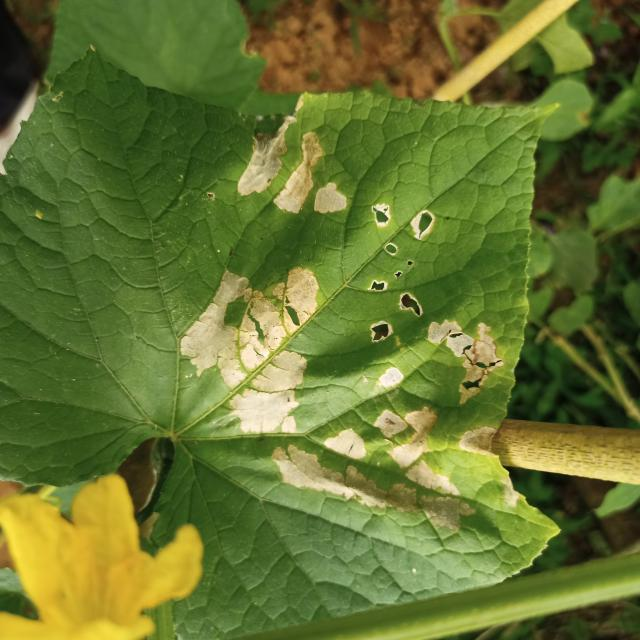disease_cucumber: (180, 110, 502, 534)
